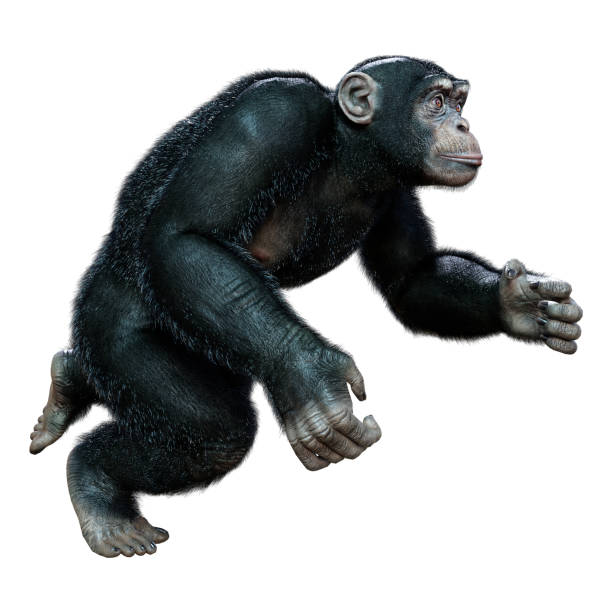chimpanzee: (320, 32, 553, 213)
